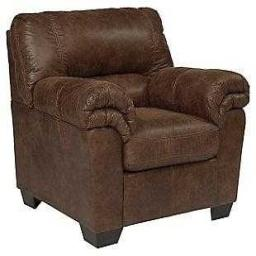Chair: (6, 11, 250, 244)
